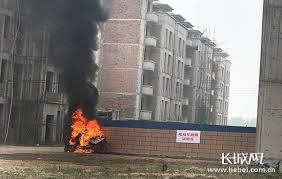fire: (65, 107, 104, 152)
